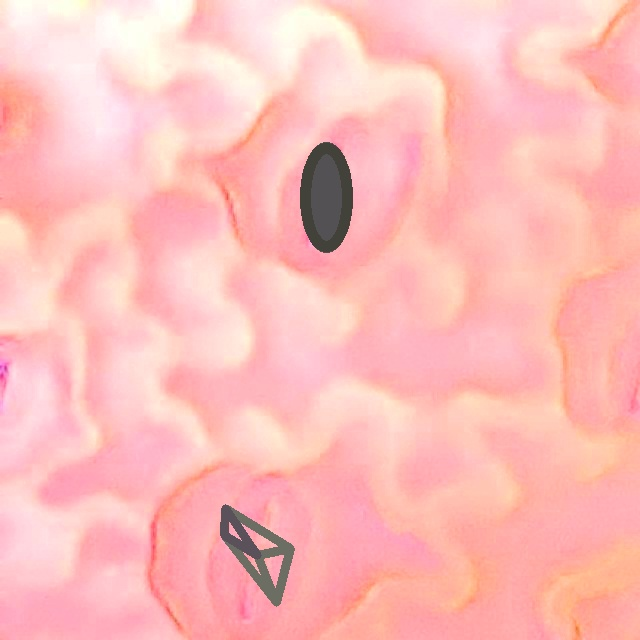open: (221, 505, 293, 605), (300, 142, 353, 252)
